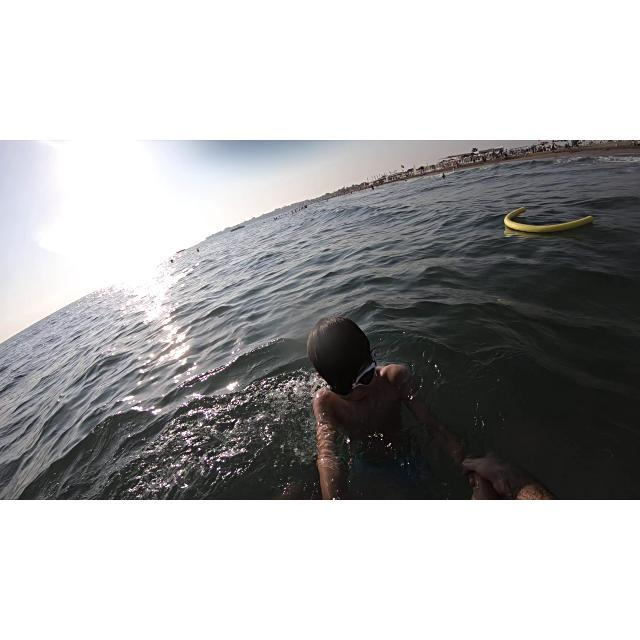human: (301, 310, 466, 500)
